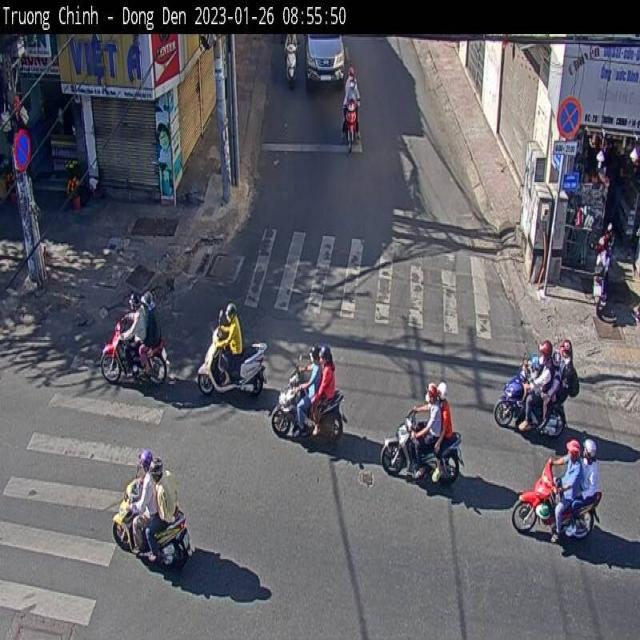with_helmet: (562, 435, 582, 466), (580, 429, 598, 462), (221, 302, 239, 330), (137, 446, 156, 472), (424, 380, 439, 406), (539, 338, 554, 364), (151, 454, 166, 479), (127, 289, 140, 317), (528, 350, 542, 376), (320, 340, 332, 368), (436, 378, 448, 403), (306, 345, 318, 369), (550, 348, 562, 371), (558, 340, 570, 362), (348, 74, 358, 90)
